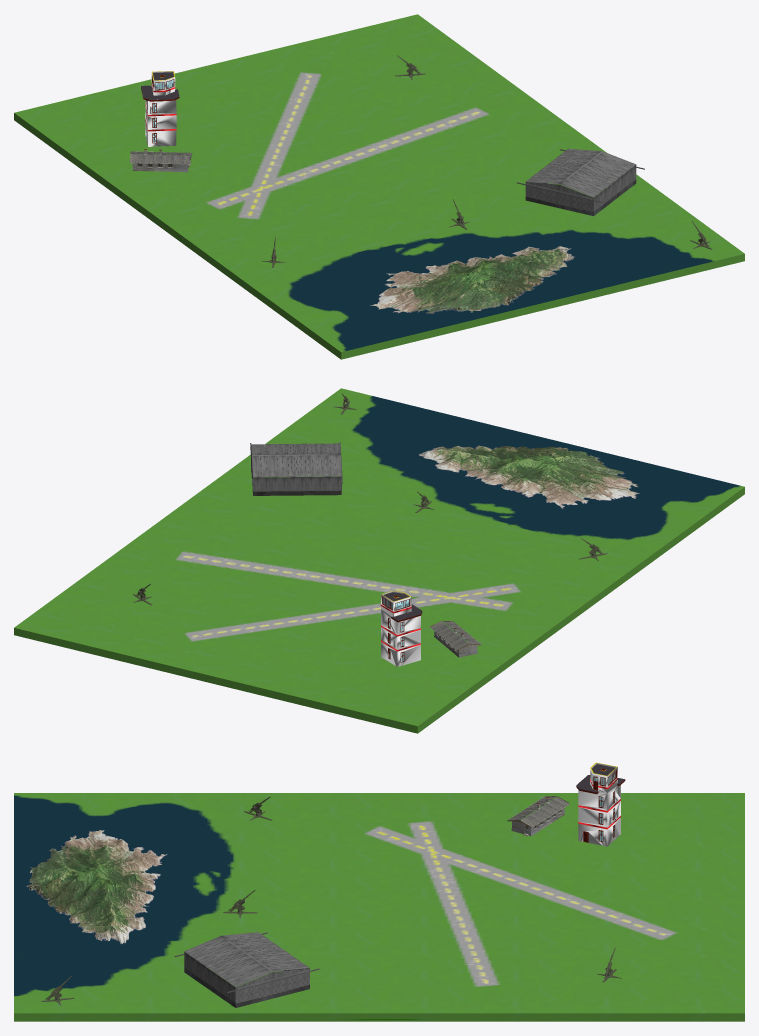
File: Guadalcanal.glb
The picture shows the model from 3 angles, top to bottom: view 1: azimuth 30°, elevation 25°; view 2: azimuth 150°, elevation 25°; view 3: azimuth 270°, elevation 25°; orthographic projection. The views are drawn at different scales.
Visible parts, largest first — view 1: Ground, UaPouLP v2_Material #74_0; view 2: Ground, UaPouLP v2_Material #74_0; view 3: Ground, UaPouLP v2_Material #74_0.
Boxes of the visible parts, <box> form: Ground: <box>14,14,744,359</box>; UaPouLP v2_Material #74_0: <box>369,246,575,314</box>; Ground: <box>14,388,744,733</box>; UaPouLP v2_Material #74_0: <box>416,445,641,509</box>; Ground: <box>14,762,744,1021</box>; UaPouLP v2_Material #74_0: <box>26,829,167,945</box>.
Bounding box in the file's own units: 114 × 19 × 160.
Materials: 18 (4 with a texture image).
